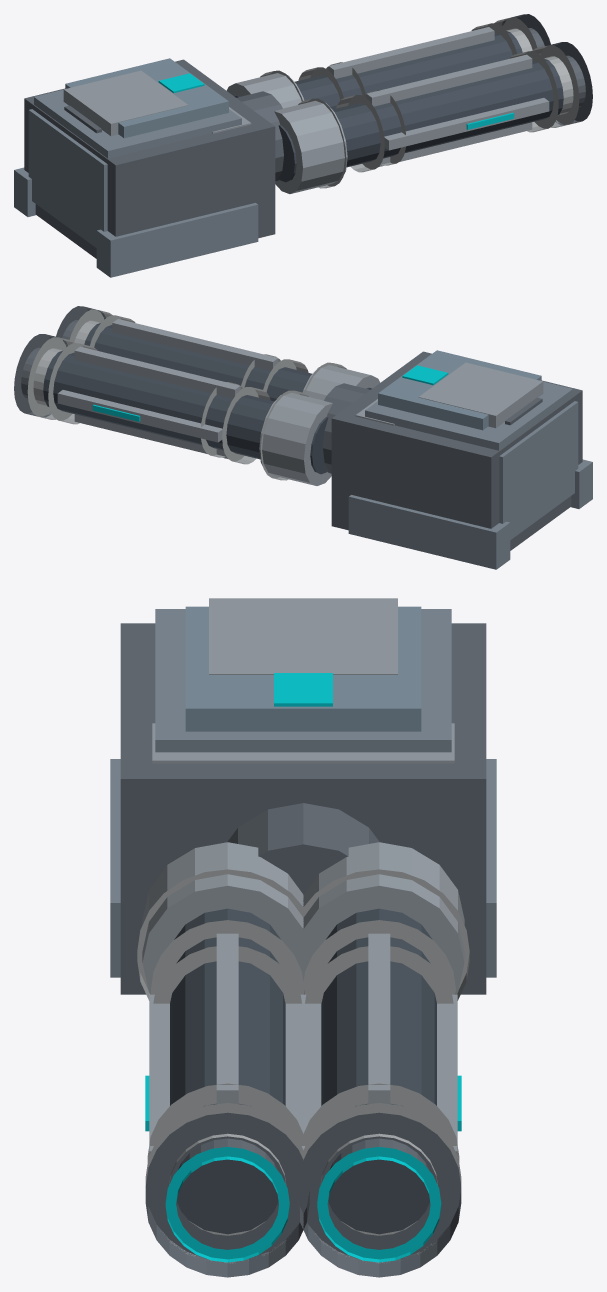
The picture shows the model from 3 angles, top to bottom: view 1: azimuth 30°, elevation 25°; view 2: azimuth 150°, elevation 25°; view 3: azimuth 270°, elevation 25°; orthographic projection. The views are drawn at different scales.
Visible parts, largest first — view 1: main_receiver_0, inner_barrel_12_barrel2, rear_housing_5, right_side_armor_3, inner_barrel_12_barrel1, rear_barrel_shroud_13_barrel2, top_raised_panel_2, top_armor_1, mp2_reinforced_bridge, vent_rail_23_barrel2, vent_rail_23_barrel1, vent_rail_19_barrel2 (+13 smaller); view 2: main_receiver_0, inner_barrel_12_barrel1, rear_housing_5, left_side_armor_4, inner_barrel_12_barrel2, rear_barrel_shroud_13_barrel1, top_raised_panel_2, top_armor_1, mp2_reinforced_bridge, vent_rail_23_barrel1, vent_rail_23_barrel2, vent_rail_21_barrel1 (+13 smaller); view 3: main_receiver_0, inner_barrel_12_barrel1, inner_barrel_12_barrel2, mp2_reinforced_bridge, top_raised_panel_2, top_armor_1, muzzle_outer_25_barrel1, muzzle_outer_25_barrel2, rear_barrel_shroud_13_barrel1, rear_barrel_shroud_13_barrel2, neck_10, muzzle_emitter_26_barrel1 (+21 smaller).
Boxes of the visible parts, box(x1,y1,x2,y2) form: main_receiver_0: box(24, 59, 275, 258); inner_barrel_12_barrel2: box(278, 58, 563, 182); rear_housing_5: box(28, 109, 107, 247); right_side_armor_3: box(96, 203, 258, 277); inner_barrel_12_barrel1: box(235, 31, 522, 109); rear_barrel_shroud_13_barrel2: box(274, 100, 347, 193); top_raised_panel_2: box(63, 70, 188, 136); top_armor_1: box(34, 89, 241, 158); mp2_reinforced_bridge: box(65, 58, 228, 138); vent_rail_23_barrel2: box(366, 54, 532, 106); vent_rail_23_barrel1: box(328, 27, 494, 78); vent_rail_19_barrel2: box(384, 98, 549, 150); main_receiver_0: box(331, 351, 582, 550); inner_barrel_12_barrel1: box(43, 350, 328, 474); rear_housing_5: box(499, 401, 578, 539); left_side_armor_4: box(348, 495, 510, 569); inner_barrel_12_barrel2: box(84, 323, 371, 401); rear_barrel_shroud_13_barrel1: box(259, 392, 332, 485); top_raised_panel_2: box(418, 362, 543, 428); top_armor_1: box(365, 381, 572, 450); mp2_reinforced_bridge: box(378, 350, 541, 430); vent_rail_23_barrel1: box(74, 346, 240, 398); vent_rail_23_barrel2: box(112, 319, 278, 370); vent_rail_21_barrel1: box(57, 390, 222, 442); main_receiver_0: box(120, 623, 486, 994); inner_barrel_12_barrel1: box(321, 908, 436, 1234); inner_barrel_12_barrel2: box(170, 908, 285, 1234); mp2_reinforced_bridge: box(185, 606, 421, 731); top_raised_panel_2: box(209, 598, 397, 674); top_armor_1: box(155, 609, 451, 752); muzzle_outer_25_barrel1: box(297, 1112, 461, 1277); muzzle_outer_25_barrel2: box(145, 1112, 309, 1277); rear_barrel_shroud_13_barrel1: box(295, 842, 464, 994); rear_barrel_shroud_13_barrel2: box(142, 842, 310, 994); neck_10: box(227, 803, 379, 894); muzzle_emitter_26_barrel1: box(317, 1147, 441, 1262).
Bounding box in the file's own units: 5.42 × 1.69 × 1.84.
